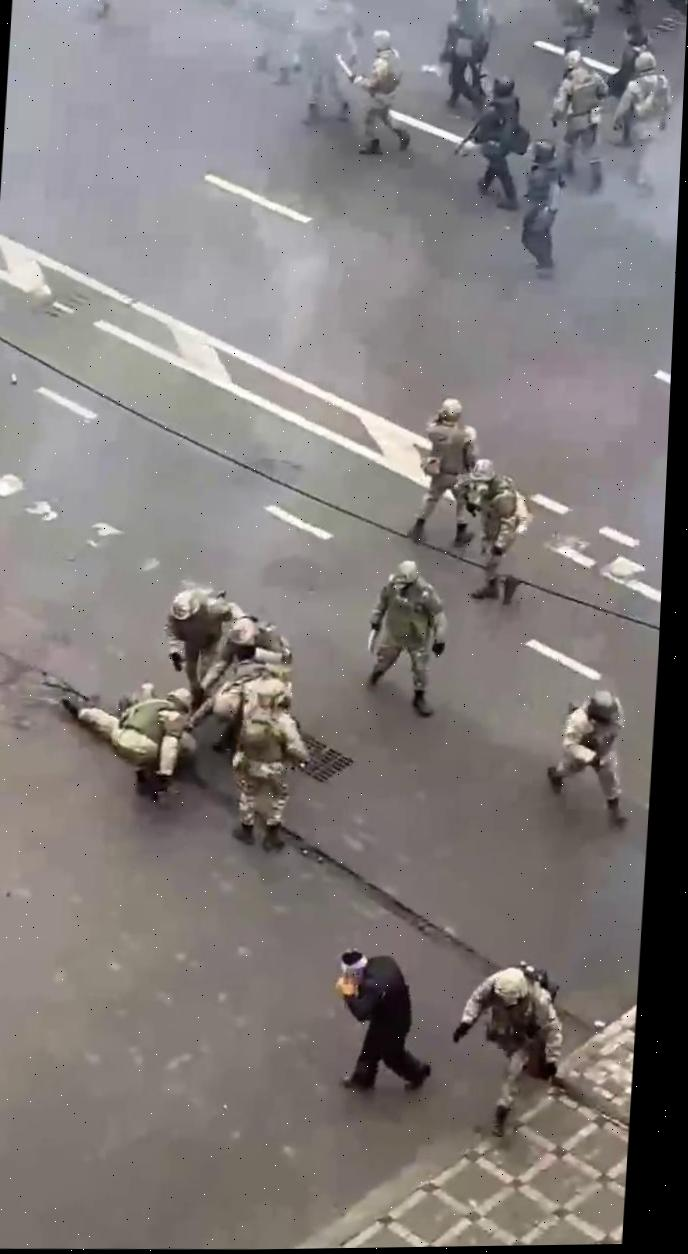person: (444, 958, 569, 1141), (325, 943, 441, 1096), (217, 676, 316, 854), (357, 558, 452, 718), (540, 687, 635, 830), (402, 395, 485, 543), (454, 454, 532, 606), (450, 74, 535, 210), (329, 28, 417, 156), (104, 684, 194, 802), (158, 588, 248, 696), (606, 49, 675, 189), (546, 46, 611, 190), (193, 613, 297, 700), (511, 137, 565, 278), (439, 0, 496, 108)
